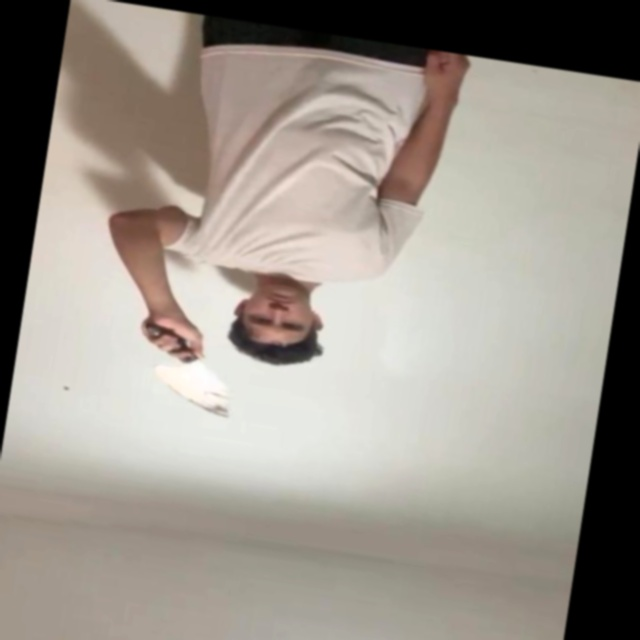Sharp-Object: (150, 366, 239, 420)
